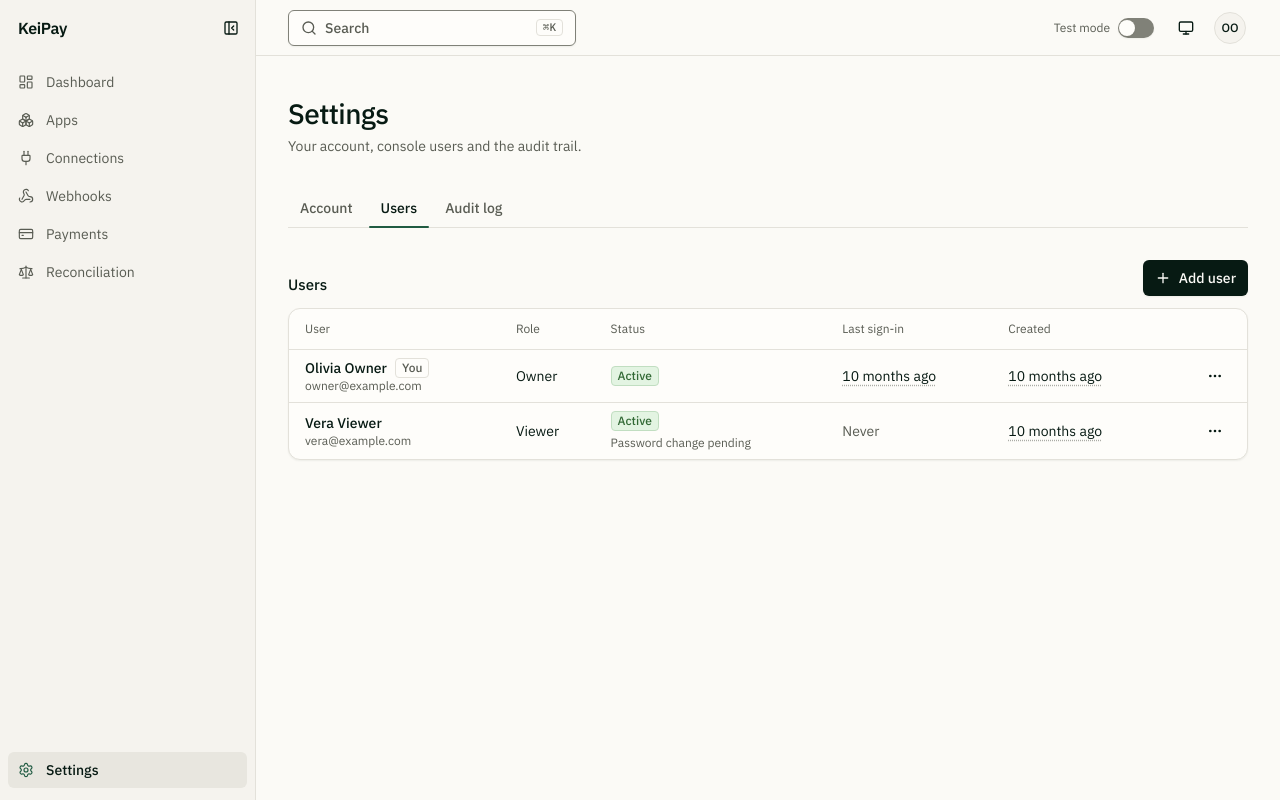
Test case: Users page › offers no Disable or Reset password on your own row
Click the button named "Actions for owner@example.com".
click(1215, 376)  # box [1199,360,1231,392]
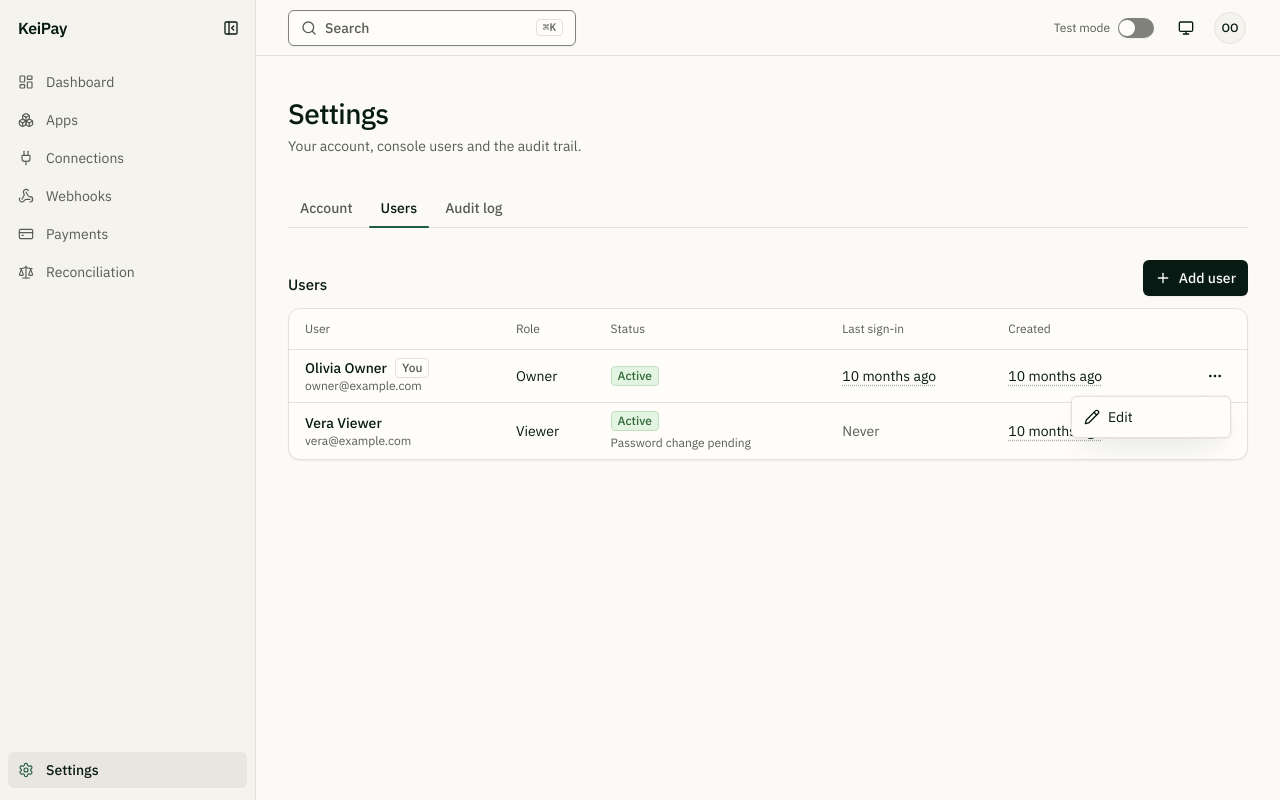
Expected: the menu item "Disable" is not shown
Now the menu item "Edit" is shown, box [1084,408,1133,426]
Press Escape
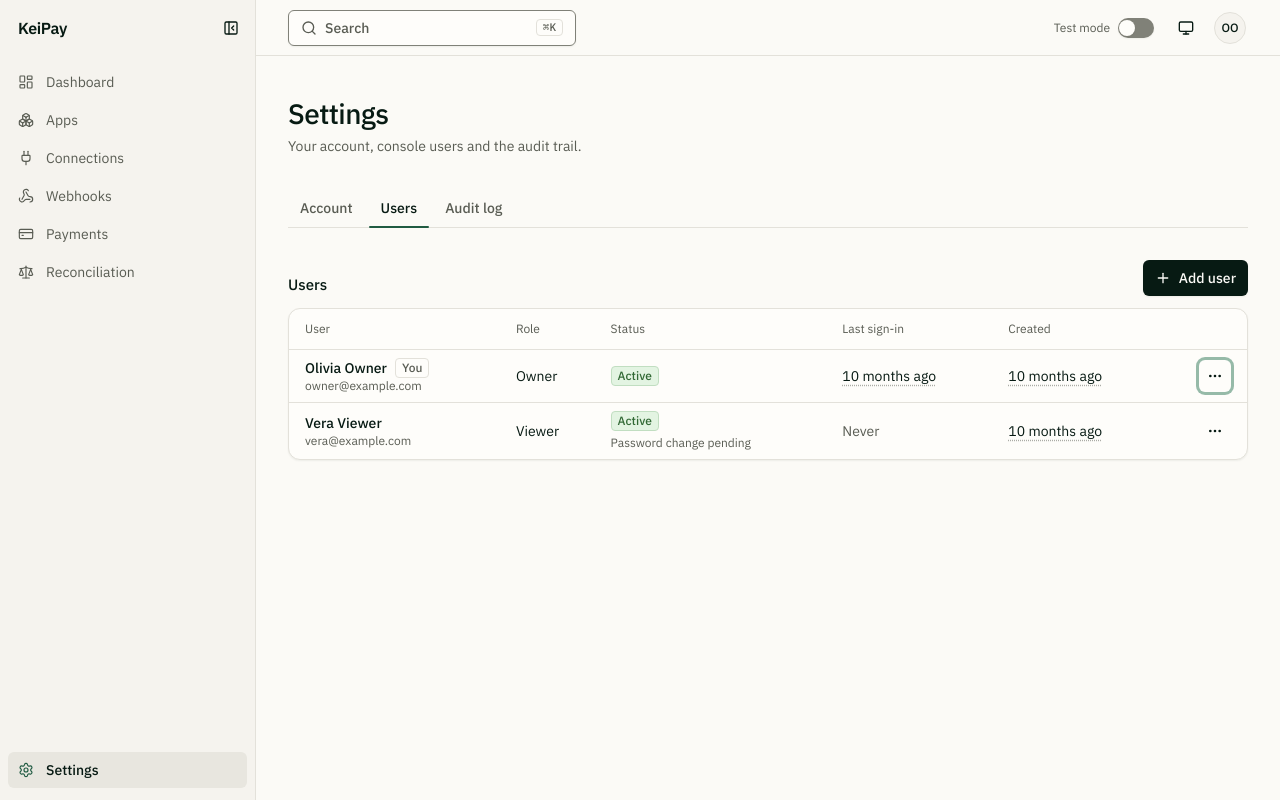
Click the button named "Actions for vera@example.com".
click(1215, 430)  # box [1199,414,1231,446]
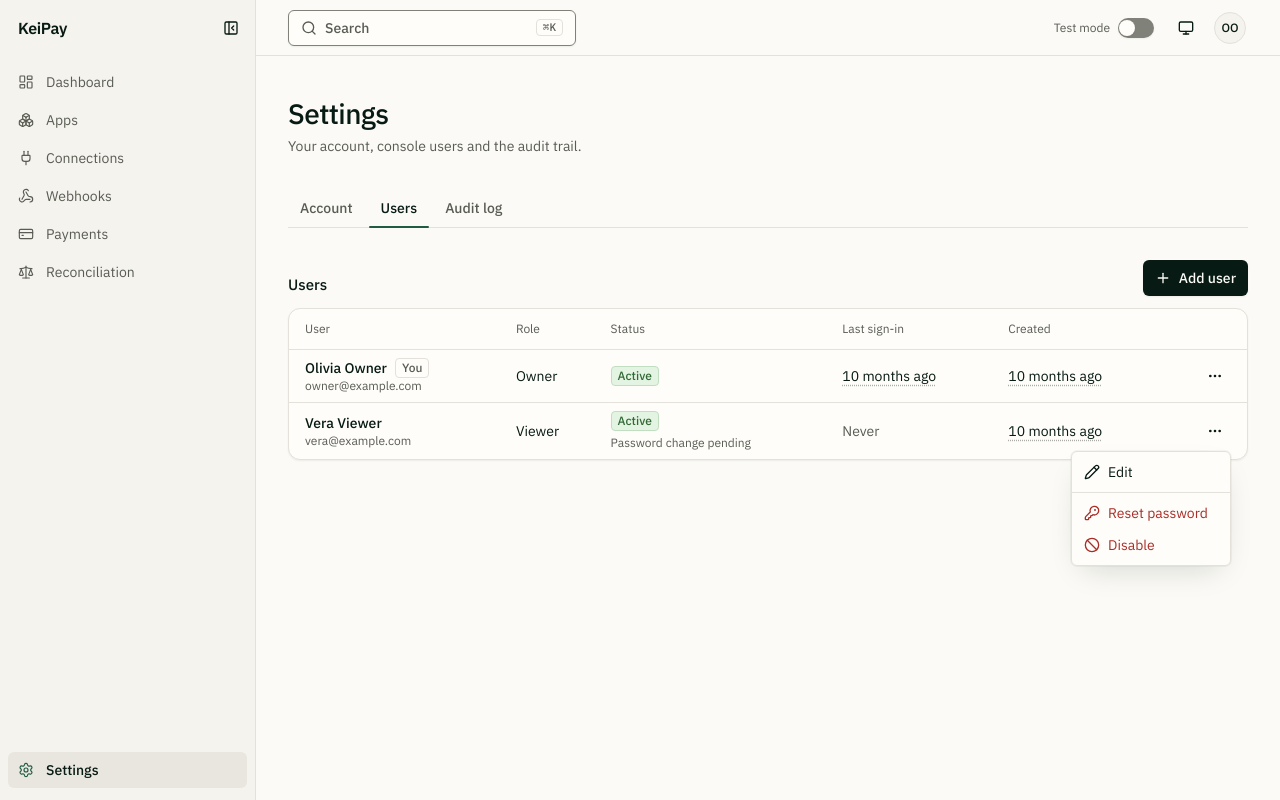
Now the menu item "Disable" is shown, box [1084,536,1155,554]
Now the menu item "Reset password" is shown, box [1084,504,1208,522]
